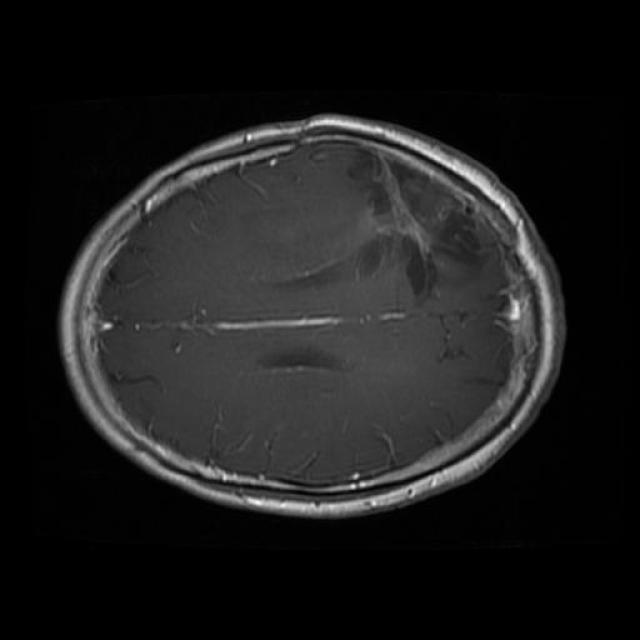Glioma: (358, 147, 494, 295)
